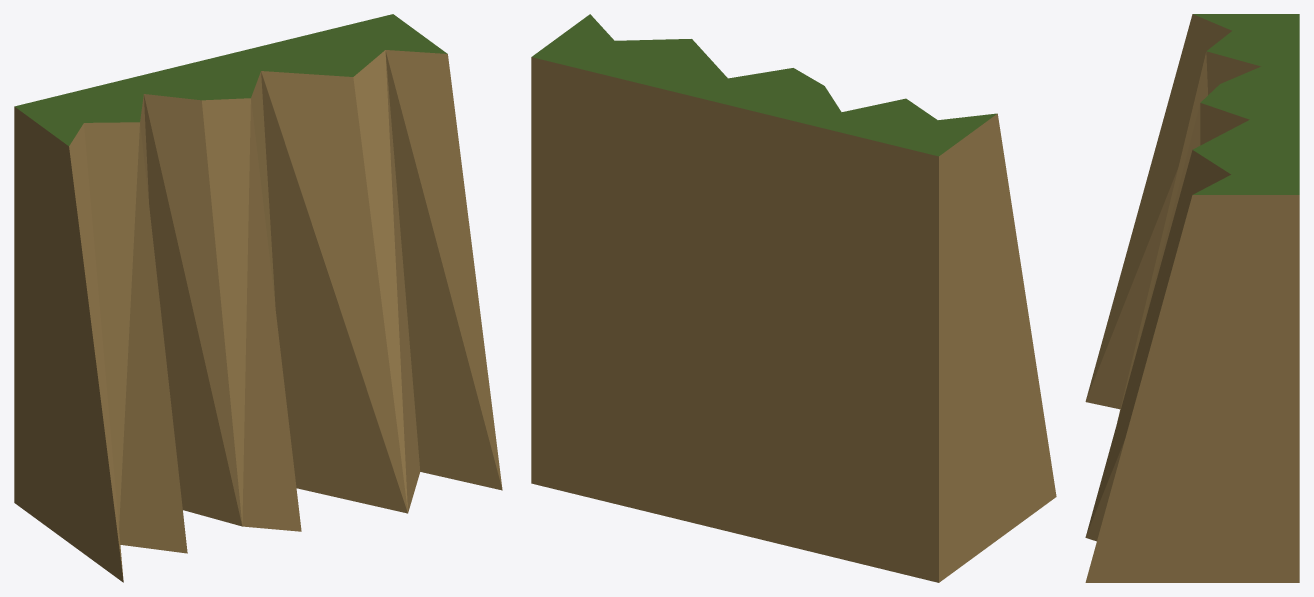
File: Terrain_Tile_Grass_Dirt_Cliff_Face_Angled_01.fbx
3 views of the same model, side by side, from view 1: azimuth 30°, elevation 25°; view 2: azimuth 150°, elevation 25°; view 3: azimuth 270°, elevation 25° (orthographic). The views are drawn at different scales.
Visible parts, largest first — view 1: Terrain_Tile_Grass_Dirt_Cliff_Face_Angled_01; view 2: Terrain_Tile_Grass_Dirt_Cliff_Face_Angled_01; view 3: Terrain_Tile_Grass_Dirt_Cliff_Face_Angled_01.
Boxes of the visible parts, x1,y1,x2,y2 form: Terrain_Tile_Grass_Dirt_Cliff_Face_Angled_01: (14,14,502,582); Terrain_Tile_Grass_Dirt_Cliff_Face_Angled_01: (531,14,1056,582); Terrain_Tile_Grass_Dirt_Cliff_Face_Angled_01: (1085,14,1299,582).
Bounding box in the file's own units: 126 × 126 × 62.99.
